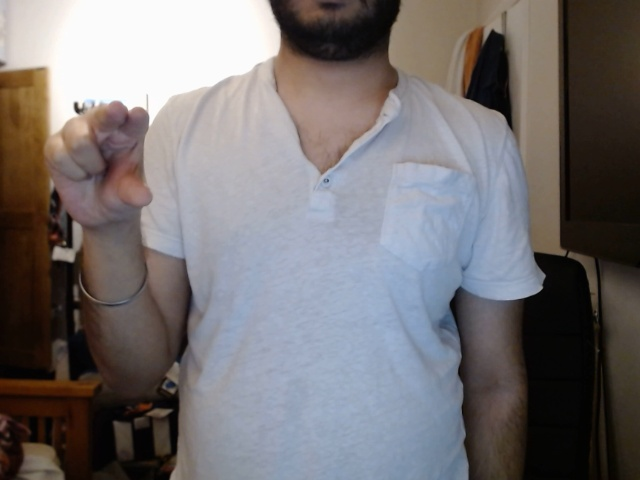No: (36, 92, 163, 247)
